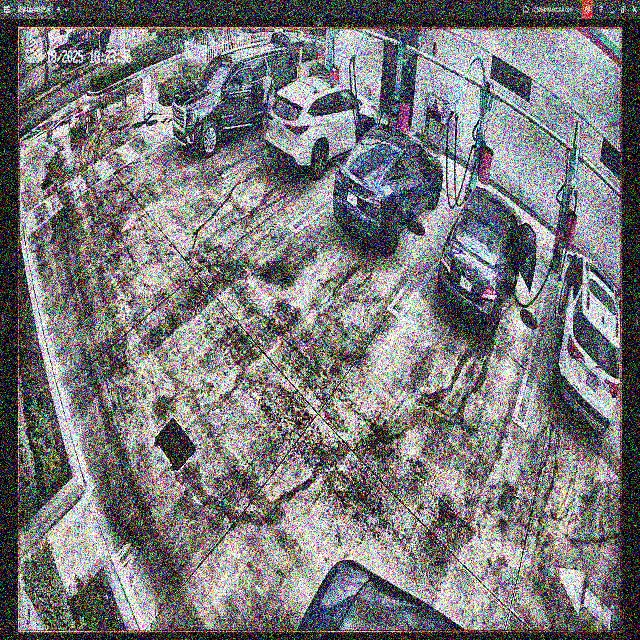Car: (335, 122, 443, 252), (439, 187, 535, 326), (267, 80, 377, 178)
